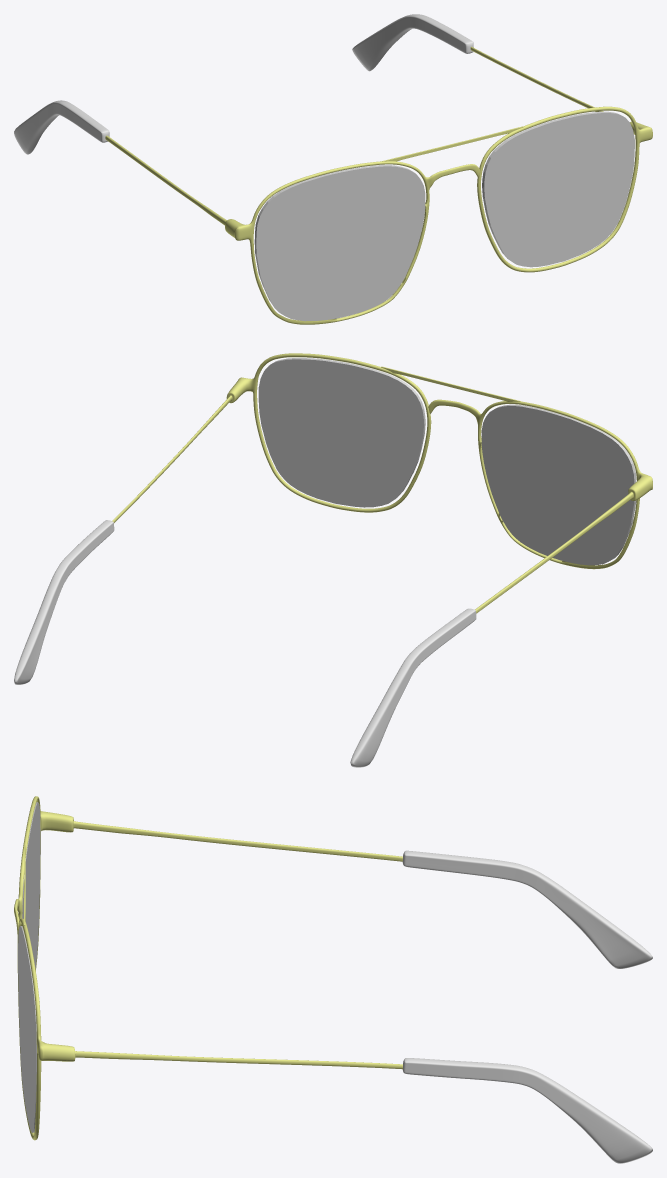
3 views of the same model, one above another, from view 1: azimuth 30°, elevation 25°; view 2: azimuth 150°, elevation 25°; view 3: azimuth 270°, elevation 25° (orthographic). The views are drawn at different scales.
Parts seen in each view (by area): view 1: zdaja 2, zdaja.001, Plane.001, karkas.003, karkas.002, Plane; view 2: zdaja.001, zdaja 2, Plane.001, karkas.003, karkas.002; view 3: Plane.001, karkas.002, karkas.003, zdaja.001, zdaja 2.
Part boxes in pixels (bbox=[...]): zdaja 2: bbox=[254, 165, 425, 321]; zdaja.001: bbox=[482, 111, 634, 267]; Plane.001: bbox=[14, 14, 473, 154]; karkas.003: bbox=[105, 135, 480, 324]; karkas.002: bbox=[470, 46, 652, 272]; Plane: bbox=[382, 126, 523, 161]; zdaja.001: bbox=[258, 358, 425, 507]; zdaja 2: bbox=[481, 404, 636, 565]; Plane.001: bbox=[14, 520, 476, 767]; karkas.003: bbox=[428, 399, 652, 613]; karkas.002: bbox=[112, 353, 431, 522]; Plane.001: bbox=[402, 850, 652, 1163]; karkas.002: bbox=[17, 918, 402, 1140]; karkas.003: bbox=[14, 796, 402, 970]; zdaja.001: bbox=[18, 926, 36, 1132]; zdaja 2: bbox=[22, 802, 40, 968].
Bounding box in the file's own units: 3539 × 1273 × 4022.
